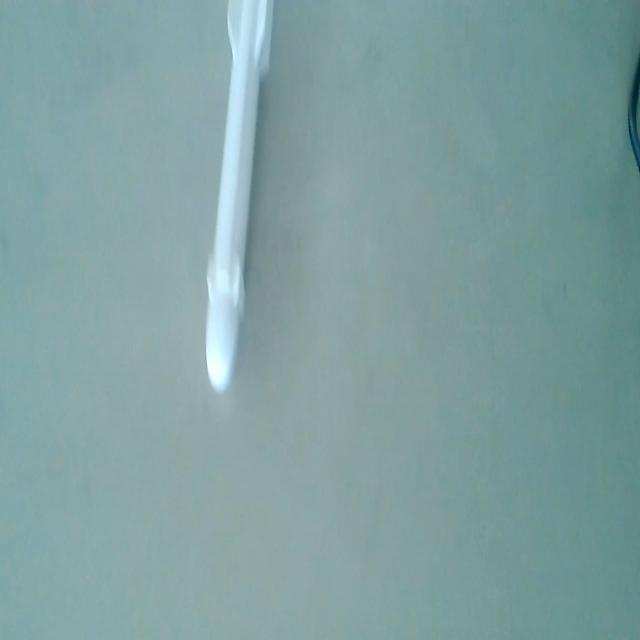Rocket: (202, 0, 277, 397)
